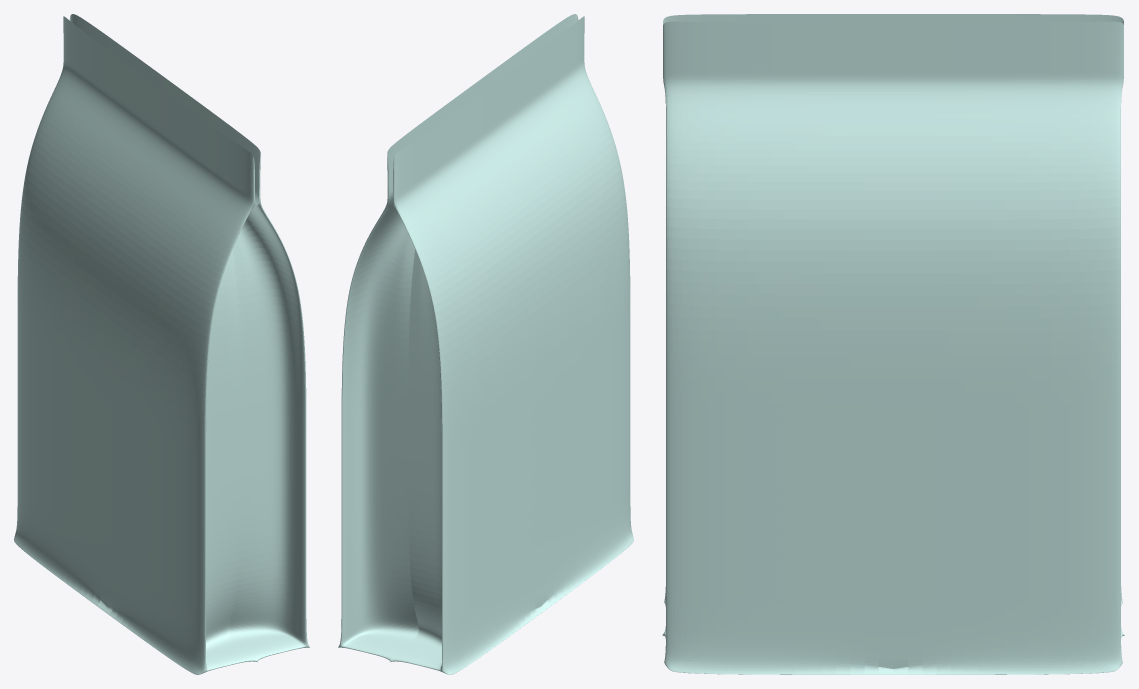
File: salt_pack_v2.fbx
3 views of the same model, side by side, from view 1: azimuth 30°, elevation 25°; view 2: azimuth 150°, elevation 25°; view 3: azimuth 270°, elevation 25° (orthographic). The views are drawn at different scales.
Parts seen in each view (by area): view 1: salt_pack; view 2: salt_pack; view 3: salt_pack.
Part boxes in pixels (x1=…): salt_pack: x1=14, y1=14, x2=309, y2=674; salt_pack: x1=338, y1=14, x2=633, y2=674; salt_pack: x1=662, y1=14, x2=1124, y2=674.
Bounding box in the file's own units: 48.37 × 200 × 135.
Materials: 1 (1 with a texture image).
